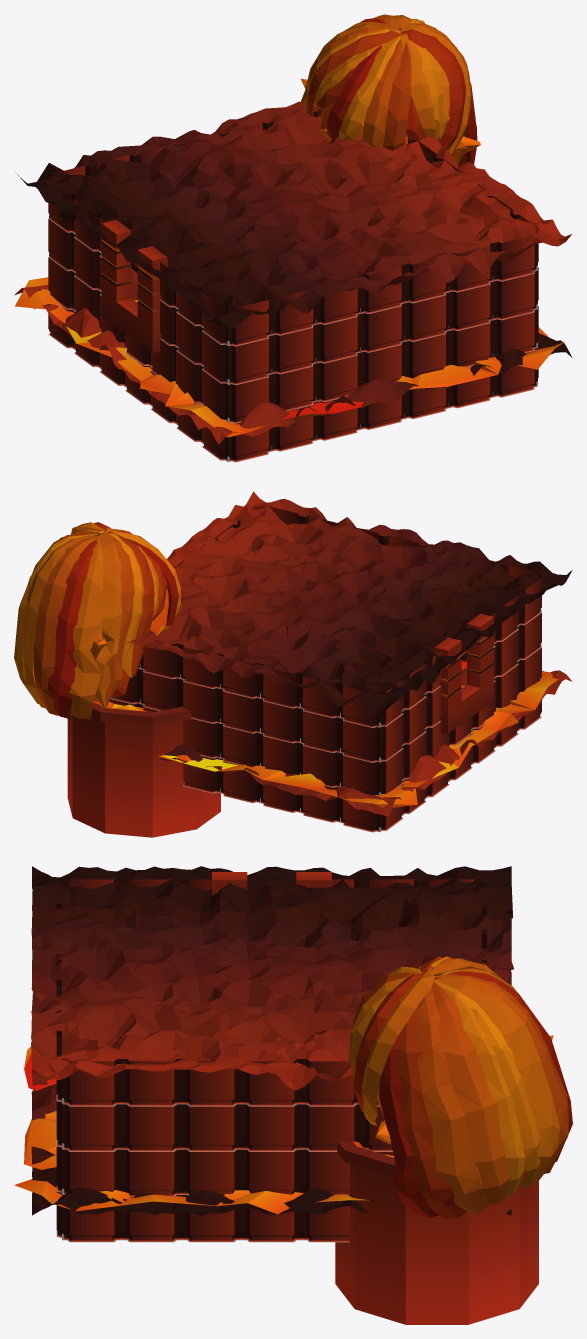
File: Fire_place_NonApplay.fbx
The picture shows the model from 3 angles, top to bottom: view 1: azimuth 30°, elevation 25°; view 2: azimuth 150°, elevation 25°; view 3: azimuth 270°, elevation 25°; orthographic projection. The views are drawn at different scales.
Visible parts, largest first — view 1: ENV_FR_Bridge_roof, ENV_FR_Wall_r, ENV_FR_Bighead, ENV_FR_Wall_l.001, ENV_FR_Stones, ENV_FR_Lava, ENV_FR_Bridge_Door, ENV_FR_Wall_l, ENV_FR_Wall_center; view 2: ENV_FR_Bridge_roof, ENV_FR_Wall_l, ENV_FR_Bighead, ENV_FR_Bridge_Lava-in-barrel, ENV_FR_Wall_l.001, ENV_FR_Lava, ENV_FR_Bridge_Door, ENV_FR_Stones, ENV_FR_Wall_r; view 3: ENV_FR_Bridge_roof, ENV_FR_Wall_center, ENV_FR_Bighead, ENV_FR_Bridge_Lava-in-barrel, ENV_FR_Stones, ENV_FR_Lava, ENV_FR_Wall_l.001, ENV_FR_Wall_r, ENV_FR_Bridge_Door.
Boxes of the visible parts, x1,y1,x2,y2 form: ENV_FR_Bridge_roof: (15,101,571,328); ENV_FR_Wall_r: (227,232,537,462); ENV_FR_Bighead: (300,14,480,166); ENV_FR_Wall_l.001: (48,177,229,461); ENV_FR_Stones: (14,269,572,444); ENV_FR_Lava: (15,269,564,437); ENV_FR_Bridge_Door: (101,220,167,352); ENV_FR_Wall_l: (49,109,322,331); ENV_FR_Wall_center: (408,138,538,386); ENV_FR_Bridge_roof: (125,491,572,717); ENV_FR_Wall_l: (109,637,380,832); ENV_FR_Bighead: (14,522,180,719); ENV_FR_Bridge_Lava-in-barrel: (67,701,220,837); ENV_FR_Wall_l.001: (378,575,541,832); ENV_FR_Lava: (158,661,558,807); ENV_FR_Bridge_Door: (434,614,493,733); ENV_FR_Stones: (159,667,572,816); ENV_FR_Wall_r: (262,506,541,714); ENV_FR_Bridge_roof: (31,866,513,1090); ENV_FR_Wall_center: (62,1059,393,1242); ENV_FR_Bighead: (349,956,572,1219); ENV_FR_Bridge_Lava-in-barrel: (335,1141,538,1324); ENV_FR_Stones: (31,1011,511,1215); ENV_FR_Lava: (14,1011,368,1214); ENV_FR_Wall_l.001: (62,879,481,890); ENV_FR_Wall_r: (56,883,64,1240); ENV_FR_Bridge_Door: (212,872,331,895).
Size of the model in its own units: 2991 by 1891 by 2796.
